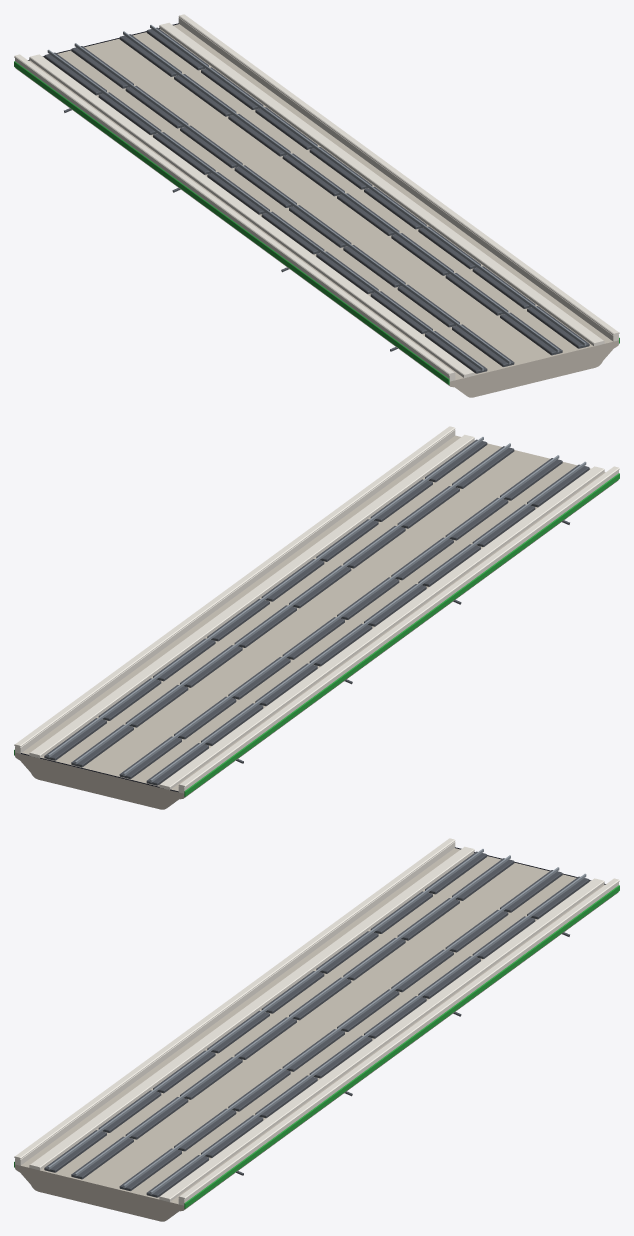
Rendered from bts_deck.glb.
The picture shows the model from 3 angles, top to bottom: view 1: azimuth 30°, elevation 25°; view 2: azimuth 150°, elevation 25°; view 3: azimuth 330°, elevation 25°; orthographic projection.
Visible parts, largest first — view 1: body; view 2: body; view 3: body.
Part boxes in pixels (x1,y1,x2,y2): body: [14, 14, 619, 397]; body: [14, 426, 619, 809]; body: [14, 838, 619, 1221].
Bounding box in the file's own units: 9.53 × 1.5 × 40.
